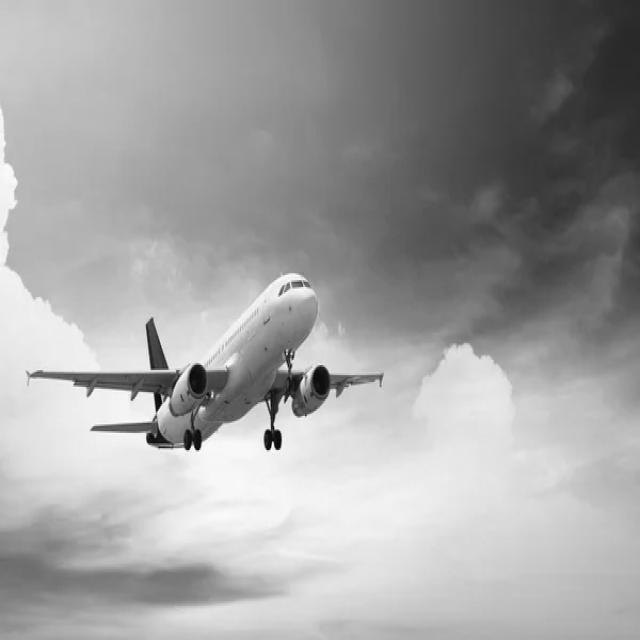Aircraft: (23, 261, 386, 462)
